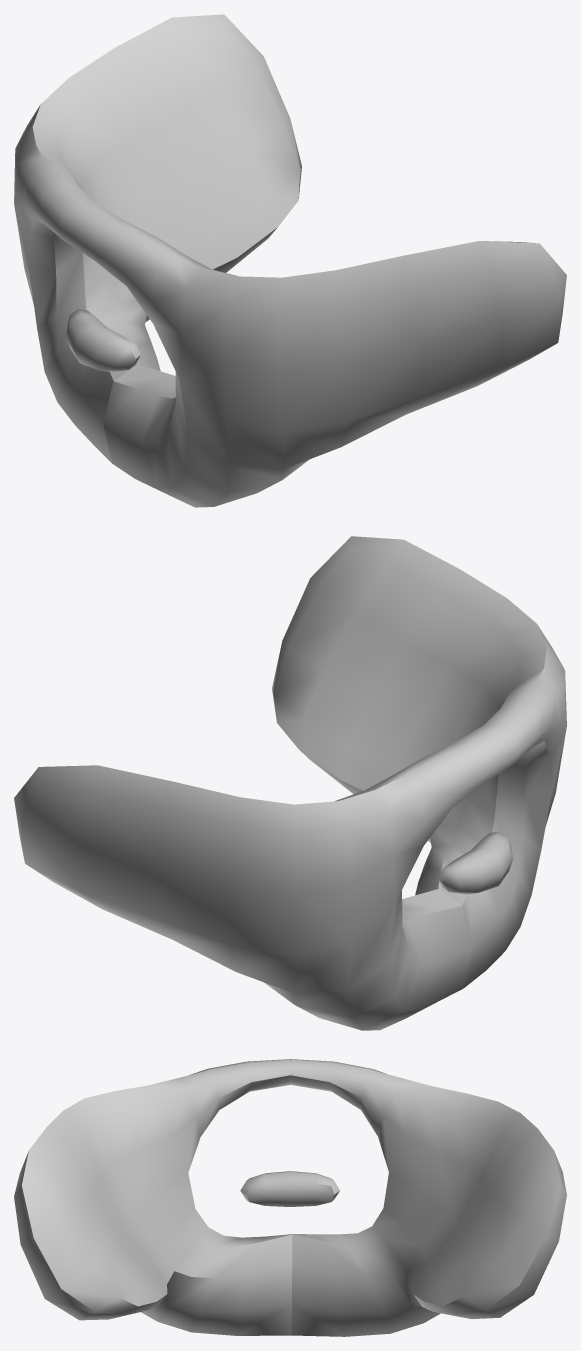
File: Beard.fbx
3 views of the same model, one above another, from view 1: azimuth 30°, elevation 25°; view 2: azimuth 150°, elevation 25°; view 3: azimuth 270°, elevation 25° (orthographic). The views are drawn at different scales.
Parts seen in each view (by area): view 1: Beard; view 2: Beard; view 3: Beard.
Part boxes in pixels (box(x1,y1,x2,y2)): Beard: box(14, 14, 566, 507); Beard: box(14, 536, 566, 1030); Beard: box(14, 1059, 566, 1336).
Size of the model in its own units: 0.4981 by 0.7523 by 0.3905.
